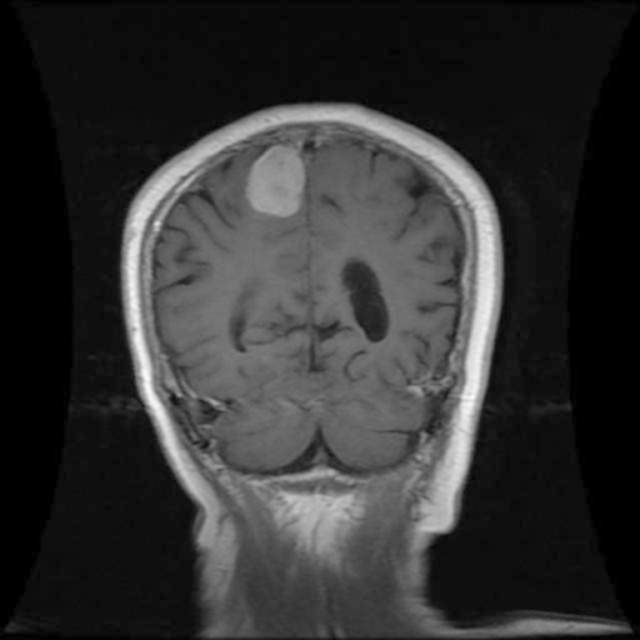meningioma tumor: (238, 136, 338, 225)
